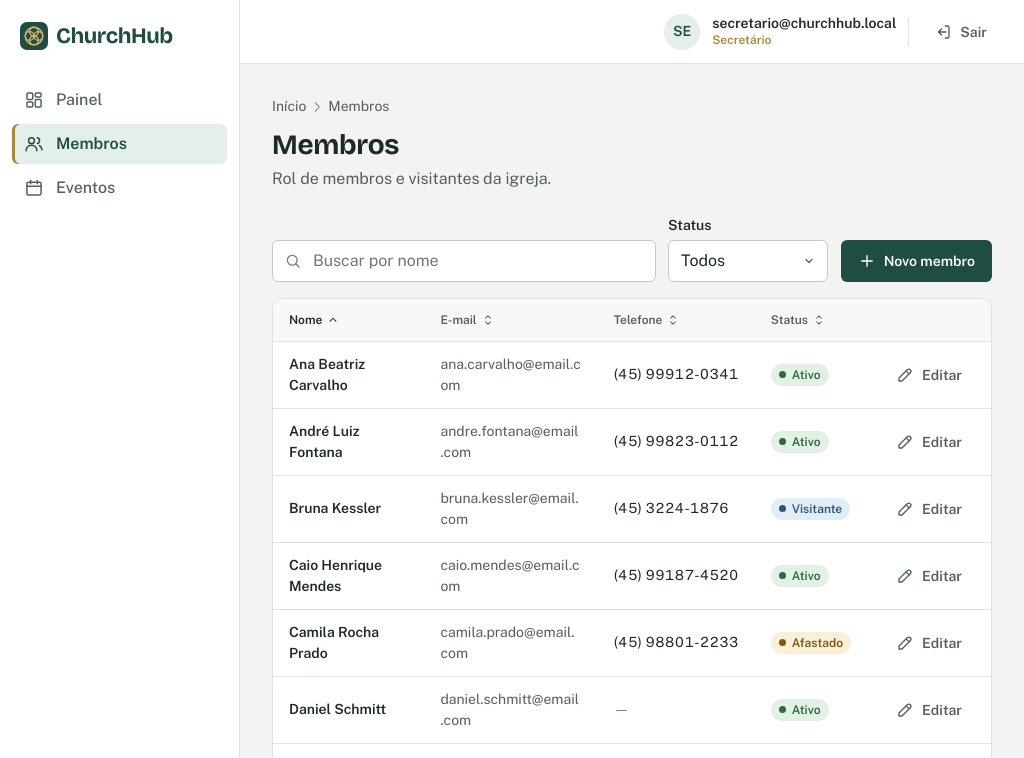
it: listagem de membros: pesquisa, filtro e ordenação › filtra por status no servidor (?status=) e guarda na URL
The image size is (1024, 758).
Select "Visitante" in the dropdown labelled "Status" at (748, 261), box [668,240,828,282]
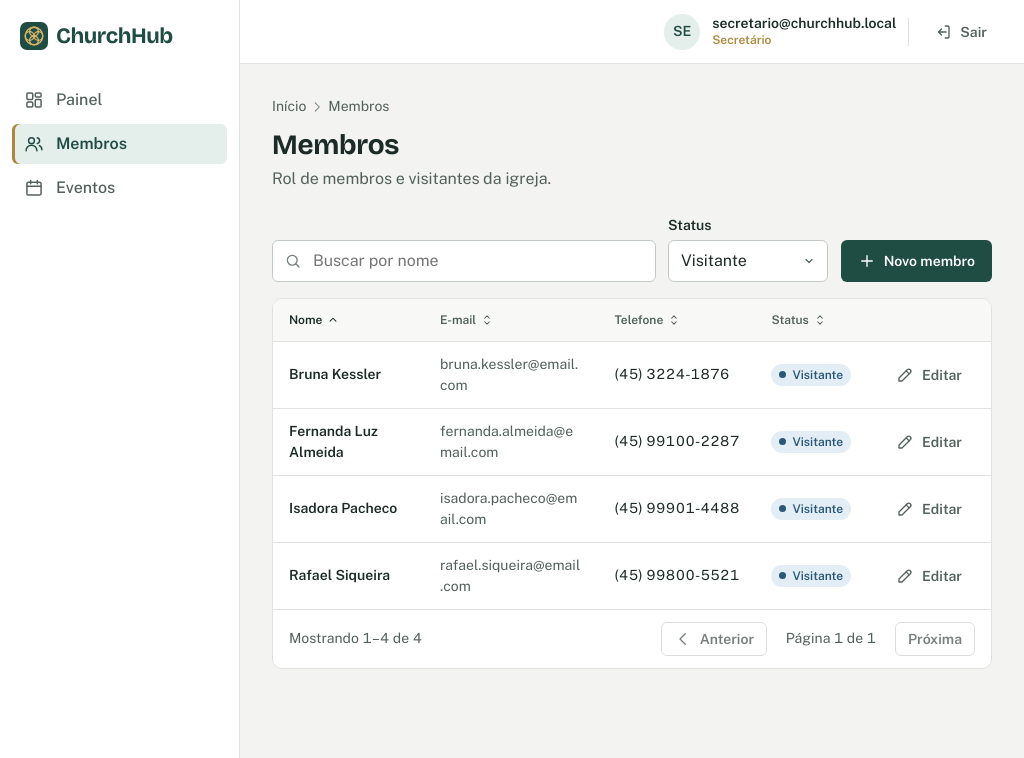
Check: the text "Mostrando 1–4 de 4" is shown, box [289,628,422,649]
